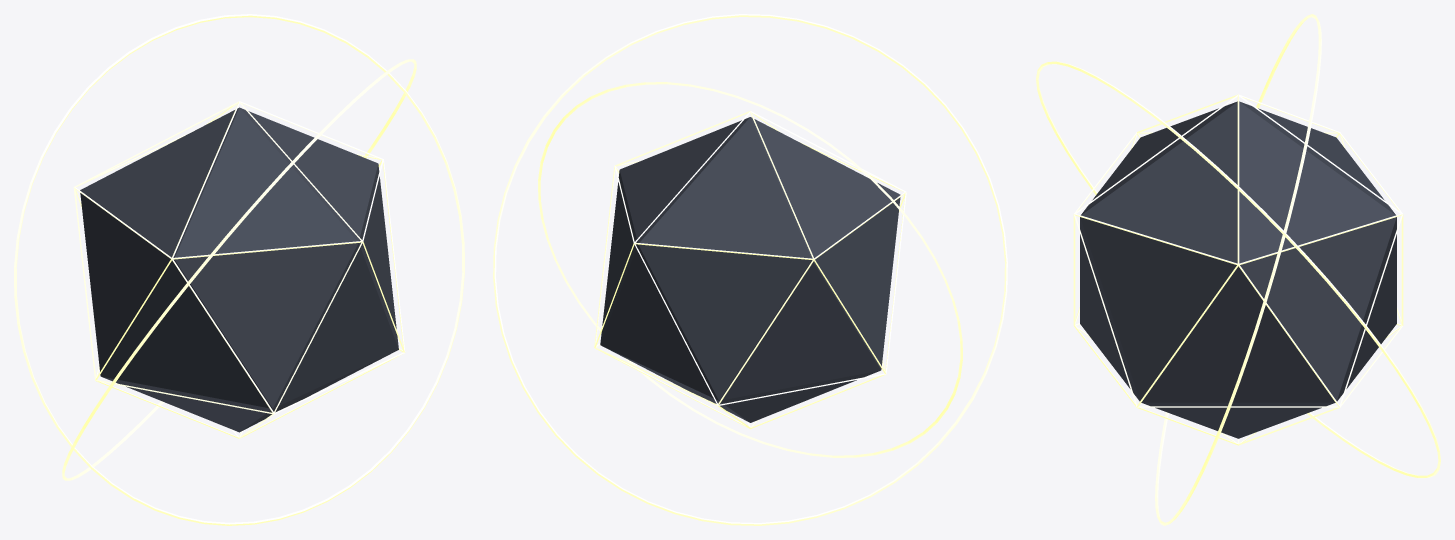
File: hero-orb.glb
The picture shows the model from 3 angles, left to right: view 1: azimuth 30°, elevation 25°; view 2: azimuth 150°, elevation 25°; view 3: azimuth 270°, elevation 25°; orthographic projection. The views are drawn at different scales.
Visible parts, largest first — view 1: Orb, OrbWire, Ring0, Ring1; view 2: Orb, Ring1, OrbWire, Ring0; view 3: Orb, OrbWire, Ring1, Ring0.
Part boxes in pixels (<box>): Orb: <box>80,107,398,432</box>; OrbWire: <box>73,101,405,438</box>; Ring0: <box>14,14,464,525</box>; Ring1: <box>62,59,416,480</box>; Orb: <box>600,117,900,422</box>; Ring1: <box>493,14,1007,525</box>; OrbWire: <box>594,111,906,428</box>; Ring0: <box>538,82,962,457</box>; Orb: <box>1080,101,1396,438</box>; OrbWire: <box>1073,94,1403,445</box>; Ring1: <box>1036,61,1440,478</box>; Ring0: <box>1155,14,1321,525</box>.
Bounding box in the file's own units: 3.86 × 3.67 × 2.93.
